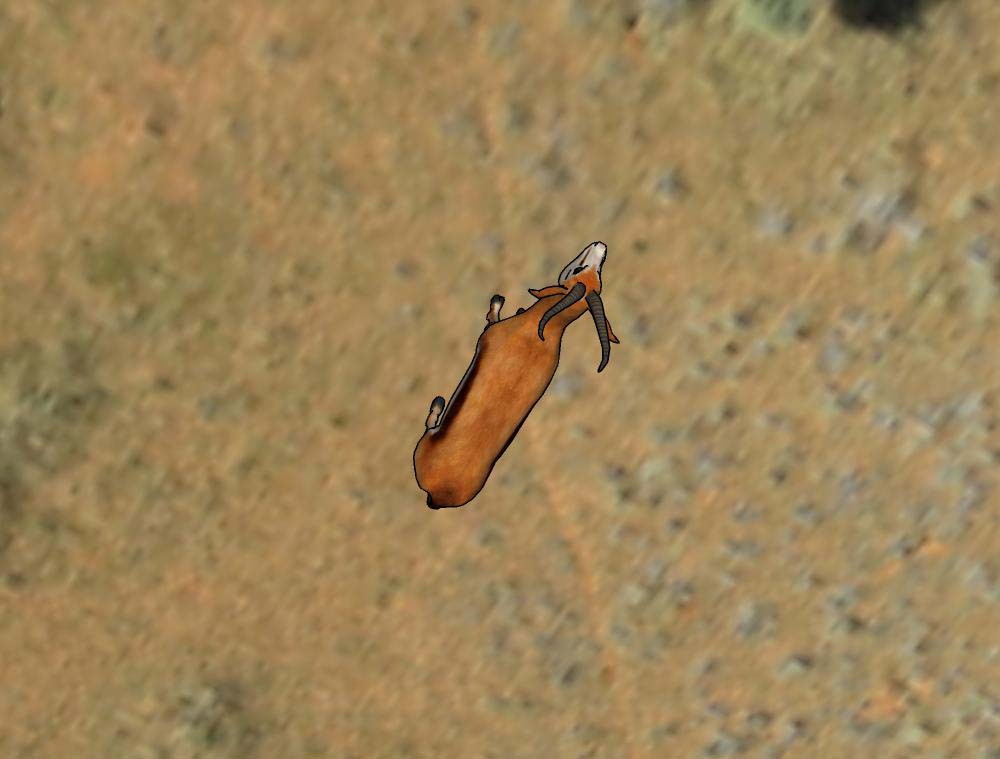springbok: (409, 235, 624, 516)
